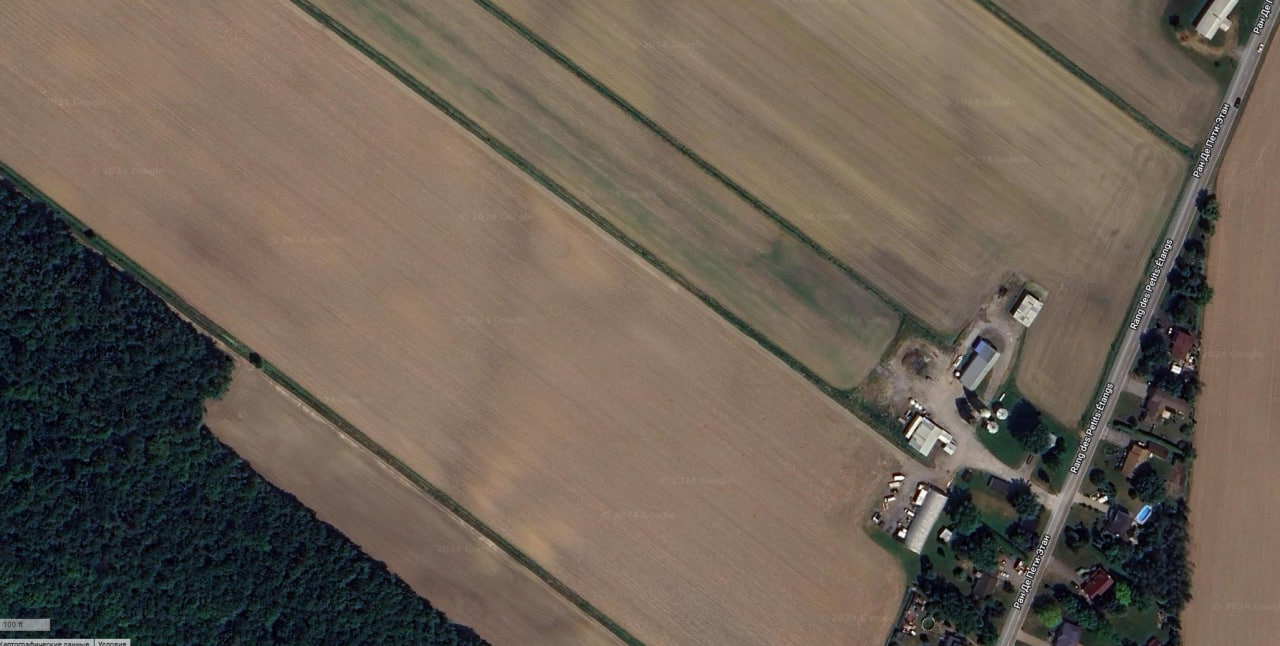Sown field: (471, 6, 476, 9)
field: (500, 0, 1186, 425), (318, 0, 899, 389), (1182, 31, 1280, 646), (994, 0, 1224, 148), (1159, 30, 1165, 40), (1210, 103, 1214, 115), (1179, 55, 1184, 59), (1150, 6, 1154, 9), (1202, 72, 1204, 78), (1202, 125, 1204, 130), (1172, 54, 1174, 58), (1142, 7, 1144, 9)
